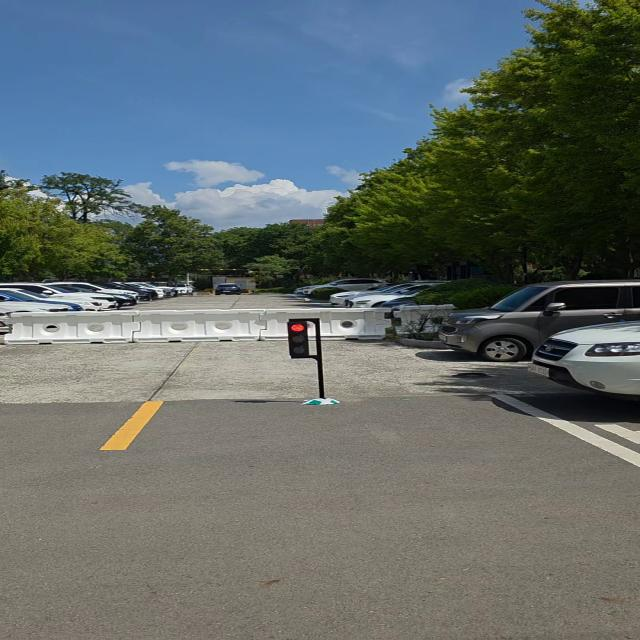red: (277, 319, 317, 360)
